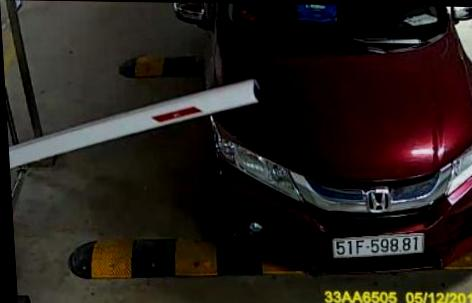License_Plate: (325, 231, 428, 261)
